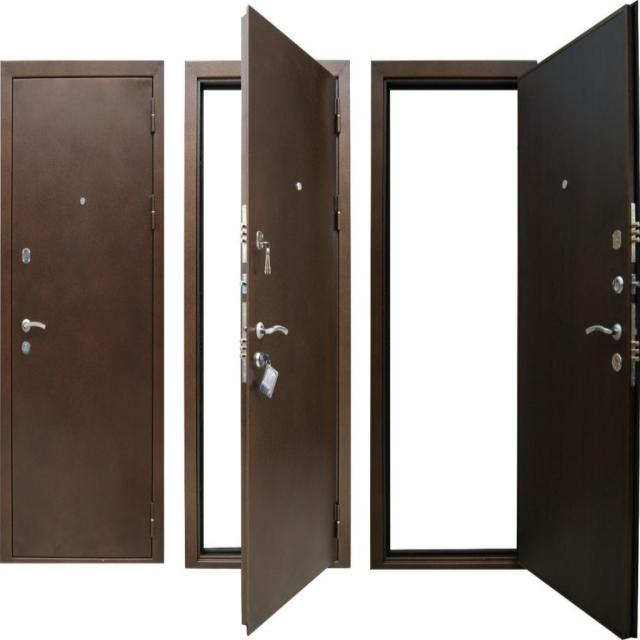close: (2, 69, 162, 562)
open: (370, 66, 638, 573), (189, 67, 345, 575)
